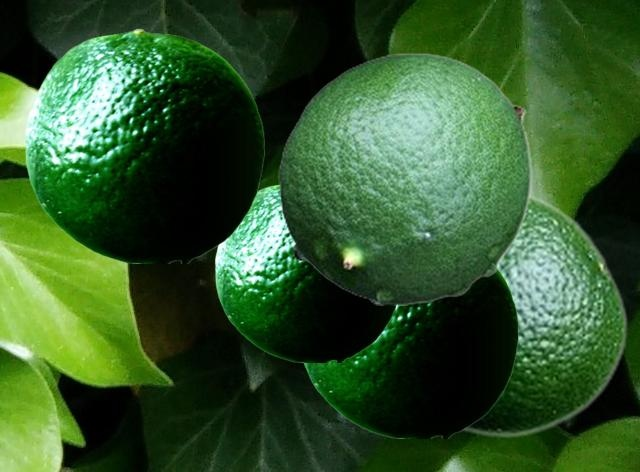calamansi: (278, 52, 531, 304), (25, 28, 263, 262), (458, 192, 628, 438), (302, 267, 517, 437), (215, 184, 396, 361)
